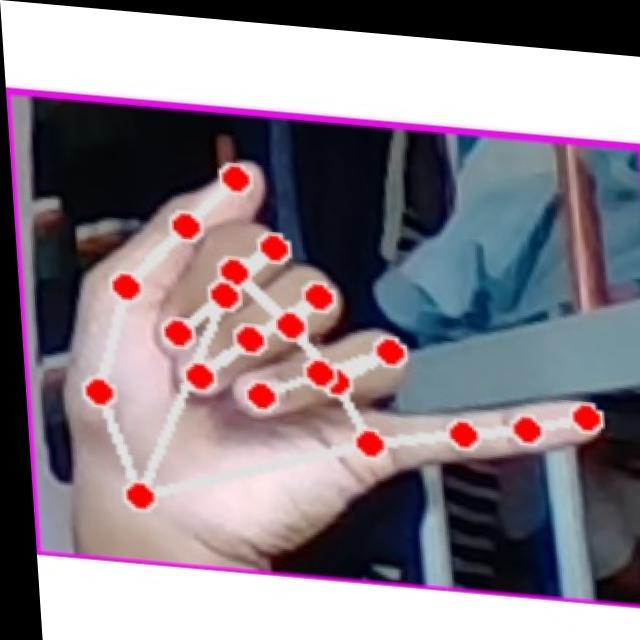J: (30, 128, 628, 579)
